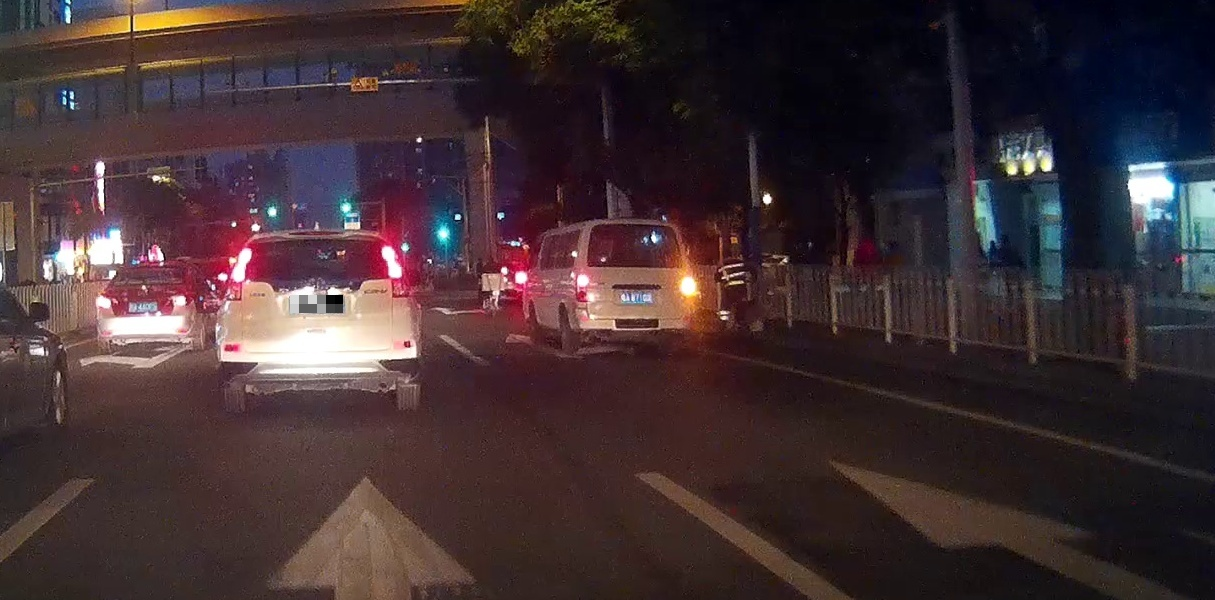L_light: (230, 247, 251, 282), (576, 274, 588, 302), (96, 295, 111, 308)
R_light: (381, 245, 402, 278), (679, 277, 695, 298), (170, 294, 187, 308)
T_light: (303, 240, 331, 245), (624, 224, 645, 229), (142, 268, 157, 272)
night-no: (215, 230, 416, 411), (94, 261, 193, 351)
night-right: (575, 219, 696, 353)
plate_1: (290, 295, 343, 313)
